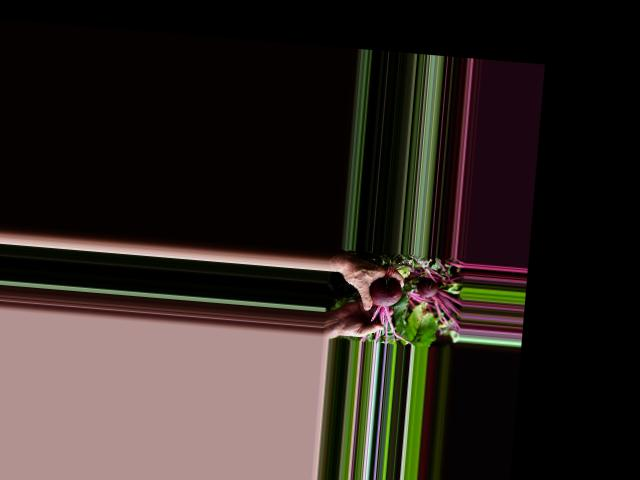beet: (363, 275, 420, 345)
